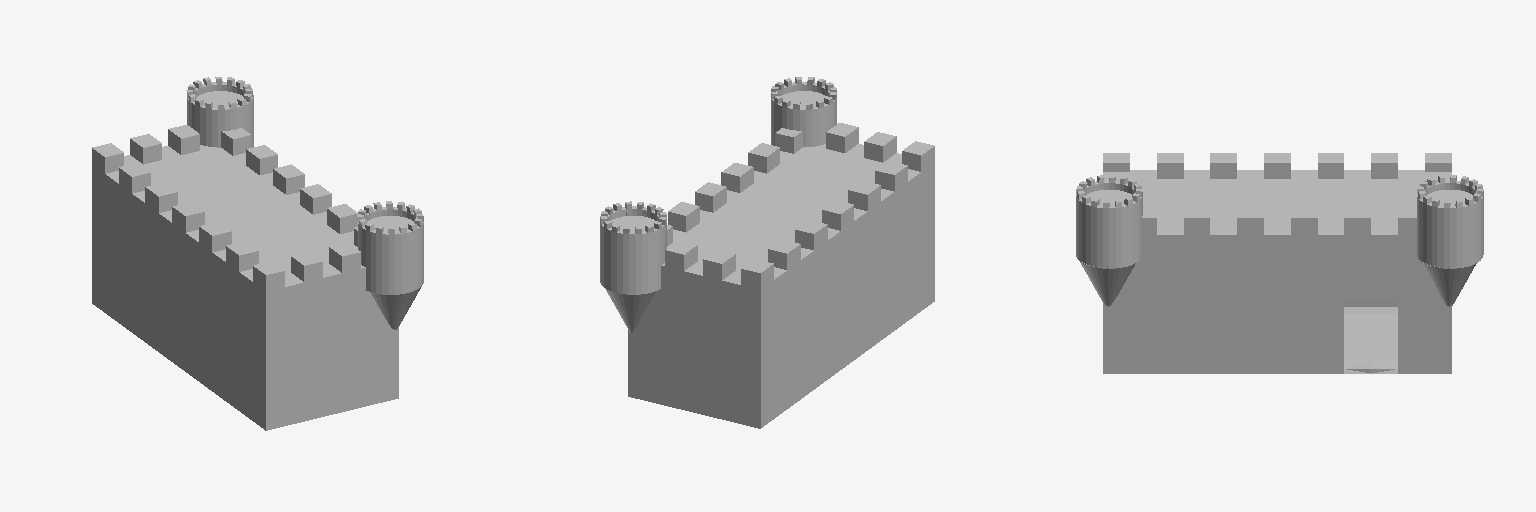
Rendered from barrack2Converted.obj.
The picture shows the model from 3 angles: view 1: azimuth 30°, elevation 25°; view 2: azimuth 150°, elevation 25°; view 3: azimuth 270°, elevation 25°; orthographic projection.
Size of the model in its own units: 4.67 by 5.18 by 10.52.